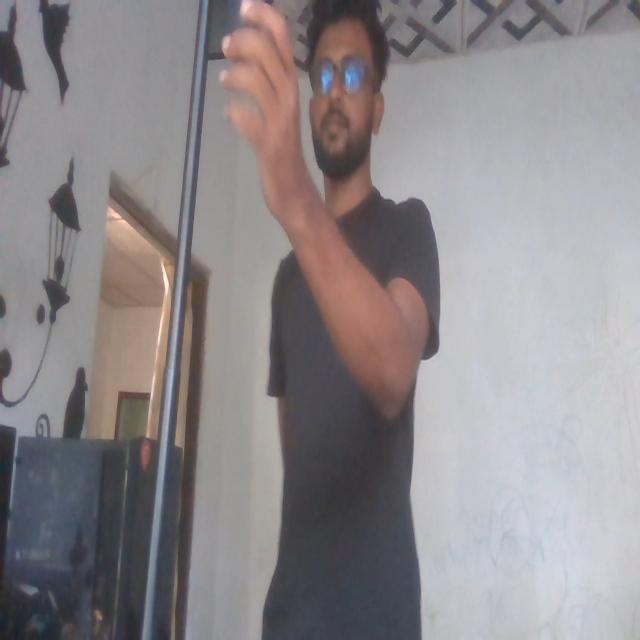Person: (236, 0, 438, 640)
